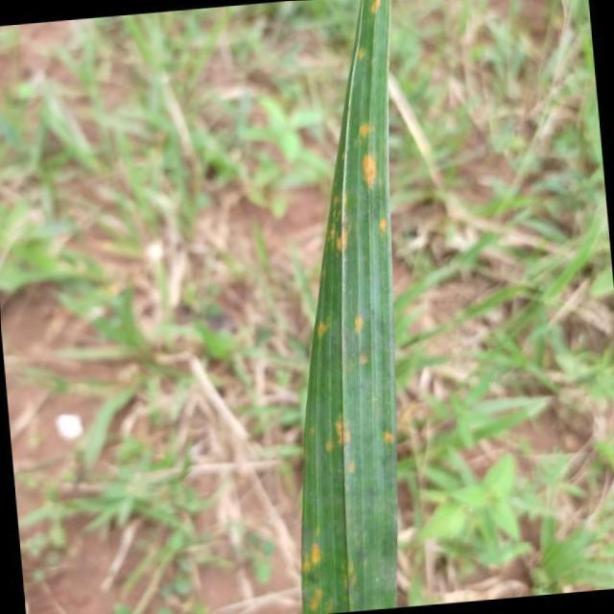Kalium: (296, 0, 403, 614)
